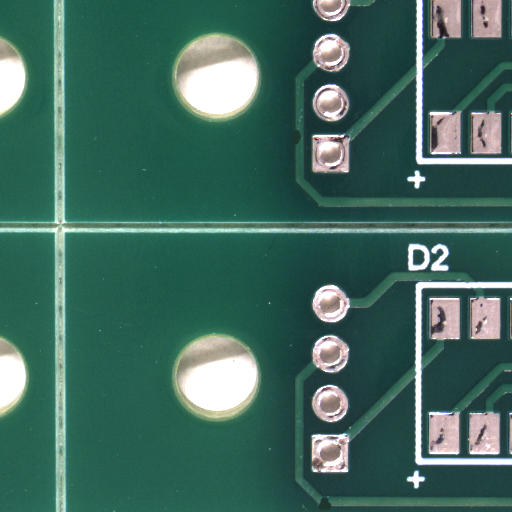Mouse_bite: (297, 138, 305, 156), (324, 503, 337, 512)
